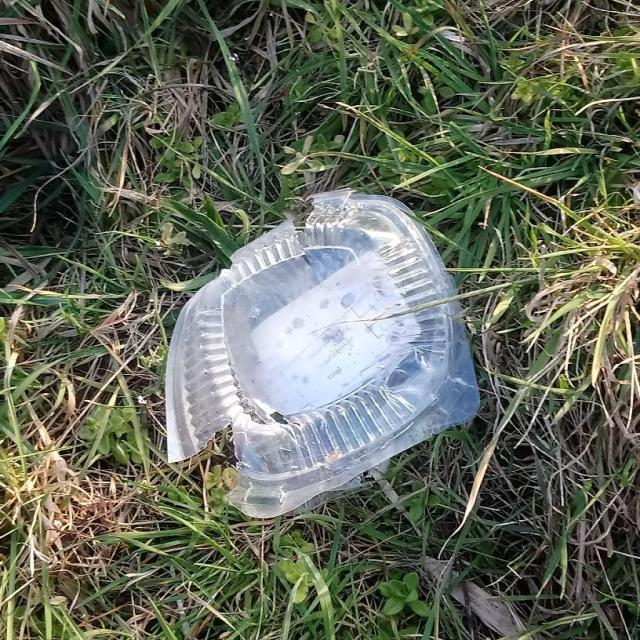Plastic: (162, 186, 482, 524)
